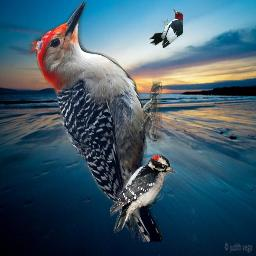Woodpecker: (30, 2, 162, 242), (110, 155, 179, 233), (149, 9, 183, 48)
